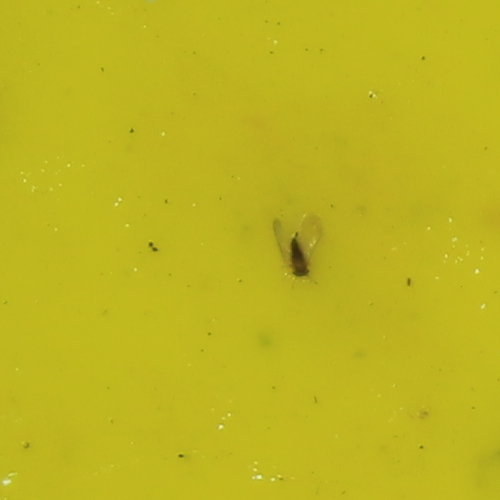psylla: (286, 236, 310, 279)
